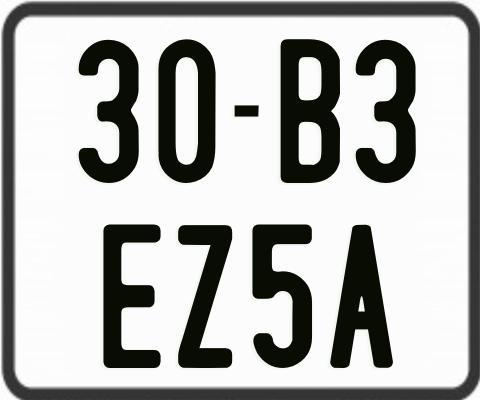0: (158, 39, 219, 185)
3: (78, 39, 144, 186), (356, 39, 422, 186)
5: (252, 222, 316, 370)
A: (328, 223, 392, 367)
B: (278, 38, 341, 183)
E: (100, 224, 158, 369)
Z: (175, 223, 230, 368)
